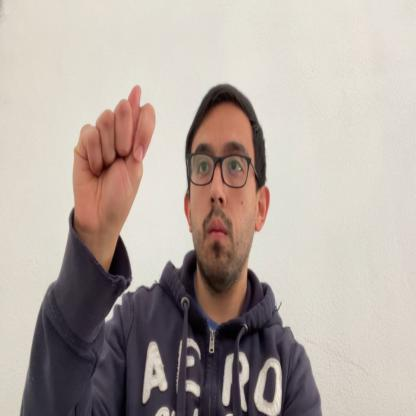T: (73, 83, 156, 238)
